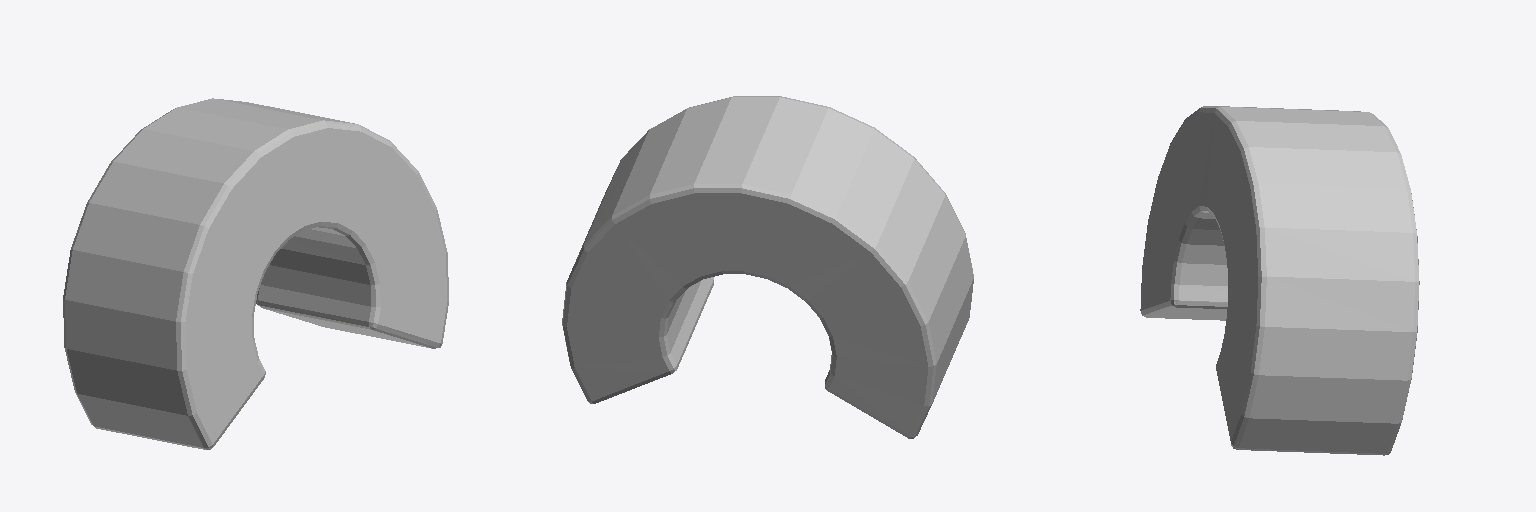
The model's file is right hand.obj.
3 renders of one model, left to right at view 1: azimuth 30°, elevation 25°; view 2: azimuth 150°, elevation 25°; view 3: azimuth 270°, elevation 25°, orthographic.
Parts seen in each view (by area): view 1: Blake_right_hand_right_wrist_right_wrist; view 2: Blake_right_hand_right_wrist_right_wrist; view 3: Blake_right_hand_right_wrist_right_wrist.
Part boxes in pixels (x1,y1,x2,y2): Blake_right_hand_right_wrist_right_wrist: (63,98,448,449); Blake_right_hand_right_wrist_right_wrist: (562,96,973,438); Blake_right_hand_right_wrist_right_wrist: (1140,106,1419,455).
Bounding box in the file's own units: 0.8625 × 0.6445 × 0.5818.